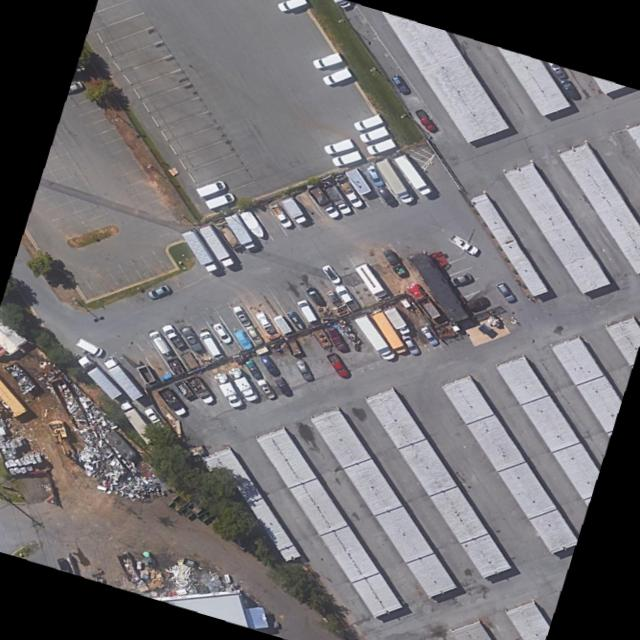large-vehicle: (99, 355, 143, 399), (76, 355, 120, 398), (351, 314, 393, 358), (374, 158, 413, 203), (392, 152, 430, 194), (369, 310, 407, 351), (179, 230, 217, 271), (403, 279, 441, 319), (196, 225, 233, 265), (222, 212, 259, 250), (353, 261, 389, 299), (305, 183, 340, 218), (321, 181, 352, 213), (382, 303, 411, 334), (278, 196, 308, 223)
ship: (236, 207, 268, 241)
small-vehicle: (156, 385, 187, 415), (215, 378, 245, 407), (446, 231, 479, 257), (198, 328, 225, 358), (187, 374, 214, 403), (336, 179, 363, 207), (380, 247, 406, 276), (332, 283, 359, 310), (232, 374, 260, 400), (319, 65, 353, 86), (266, 201, 292, 228), (412, 106, 438, 133), (72, 334, 103, 356), (324, 352, 351, 377), (350, 112, 383, 131), (145, 328, 169, 353), (160, 322, 184, 347), (325, 325, 348, 351), (310, 50, 343, 68), (252, 310, 276, 334), (294, 298, 318, 322), (195, 178, 226, 196), (364, 137, 395, 155), (178, 326, 202, 349), (331, 147, 360, 166), (204, 191, 236, 208), (358, 124, 388, 142), (210, 320, 233, 343), (558, 77, 581, 100), (293, 358, 315, 382), (322, 136, 352, 153), (243, 322, 265, 345), (231, 327, 253, 350), (301, 283, 324, 305), (259, 353, 281, 376), (143, 406, 165, 429), (399, 332, 421, 355), (283, 308, 306, 330), (494, 280, 516, 303), (229, 302, 250, 326), (144, 282, 171, 300), (376, 185, 398, 207), (388, 73, 410, 95), (463, 293, 491, 310), (319, 263, 341, 283), (364, 163, 384, 185), (255, 377, 276, 397), (419, 324, 439, 344), (242, 357, 262, 377), (274, 0, 307, 12), (273, 375, 291, 394), (449, 271, 472, 285)
